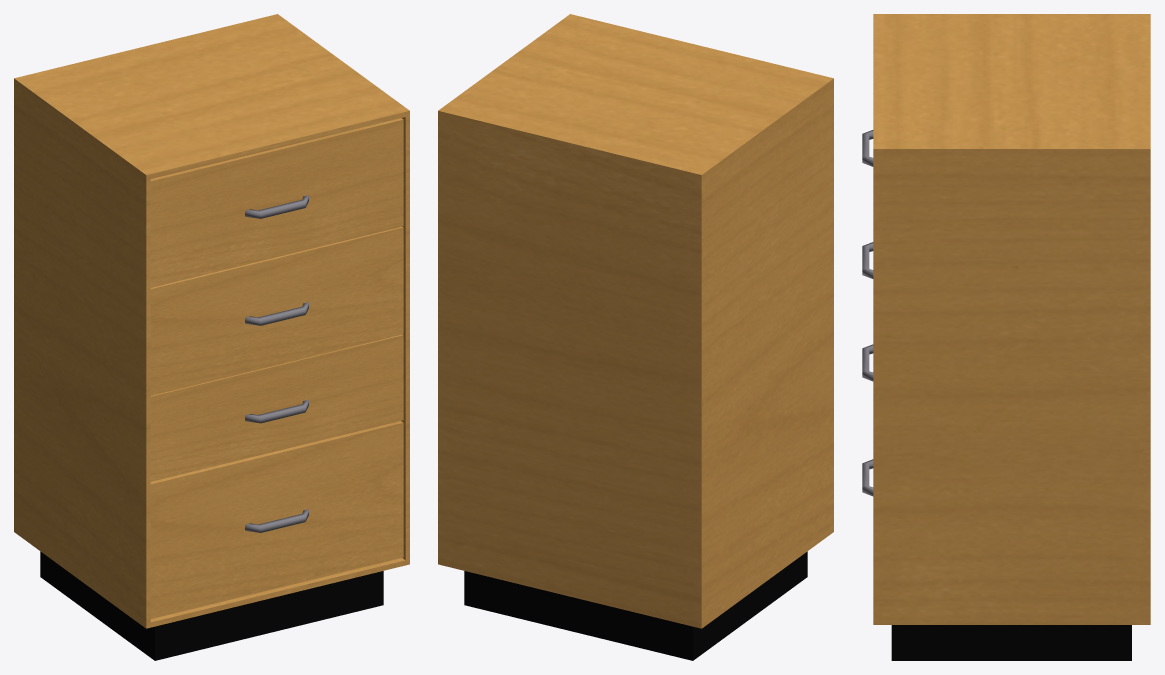
Rendered from wood_cabinet.fbx.
3 views of the same model, side by side, from view 1: azimuth 30°, elevation 25°; view 2: azimuth 150°, elevation 25°; view 3: azimuth 270°, elevation 25° (orthographic). The views are drawn at different scales.
Visible parts, largest first — view 1: cabinet, drawer3, drawer, drawer1, drawer2, handle3, handle, handle1, handle2; view 2: cabinet; view 3: cabinet.
Part boxes in pixels (x1=…): cabinet: x1=14, y1=14, x2=409, y2=660; drawer3: x1=150, y1=421, x2=403, y2=618; drawer: x1=150, y1=118, x2=403, y2=287; drawer1: x1=150, y1=226, x2=403, y2=395; drawer2: x1=150, y1=334, x2=403, y2=481; handle3: x1=245, y1=509, x2=308, y2=532; handle: x1=245, y1=195, x2=308, y2=218; handle1: x1=245, y1=302, x2=308, y2=325; handle2: x1=245, y1=399, x2=308, y2=423; cabinet: x1=438, y1=14, x2=833, y2=660; cabinet: x1=873, y1=14, x2=1150, y2=660.
Size of the model in its own units: 2.15 by 3.87 by 1.94.
Materials: 3 (1 with a texture image).
